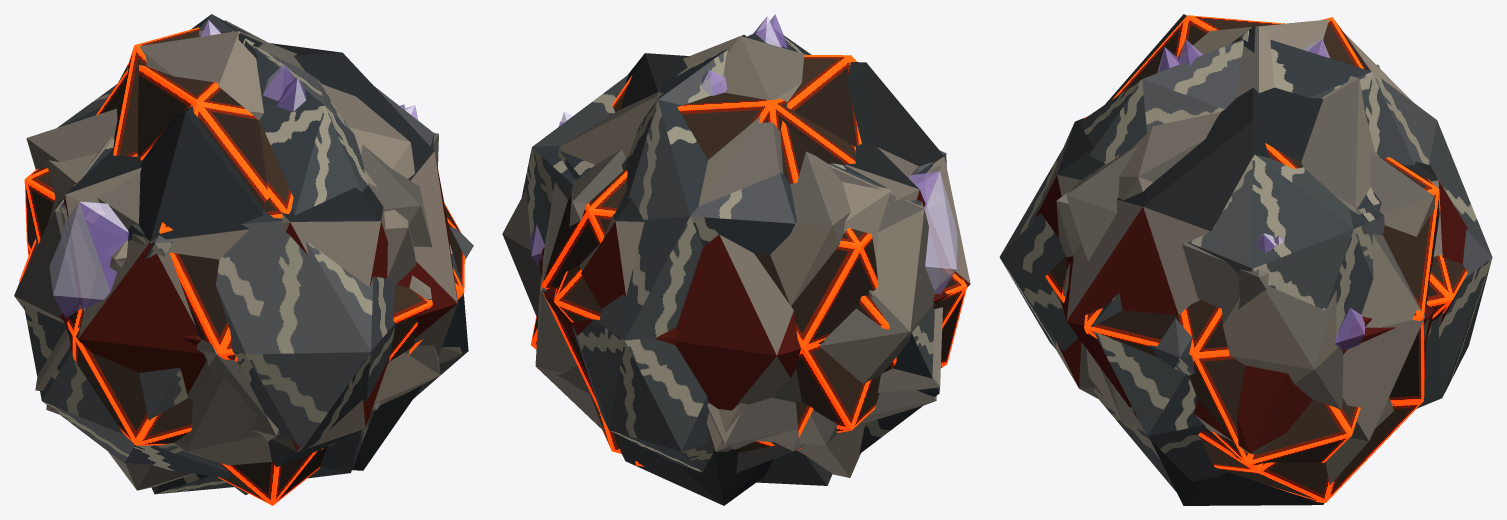
Rendered from rocks.glb.
3 renders of one model, left to right at view 1: azimuth 30°, elevation 25°; view 2: azimuth 150°, elevation 25°; view 3: azimuth 270°, elevation 25°, orthographic. The views are drawn at different scales.
Visible parts, largest first — view 1: iron_2, magnet_3, stone_2, iron_1, volatile_3, magnet_2, volatile_2, volatile_1, splitter_2, crystal_1, stone_3, stone_1 (+6 smaller); view 2: iron_2, magnet_3, stone_1, volatile_1, stone_3, volatile_3, stone_2, volatile_2, iron_1, splitter_2, splitter_3, magnet_2 (+4 smaller); view 3: iron_2, magnet_3, iron_1, stone_3, volatile_3, volatile_1, stone_1, stone_2, splitter_3, magnet_2, magnet_1, volatile_2 (+5 smaller).
Part boxes in pixels (x1,y1,x2,y2): iron_2: (57,14,395,494); magnet_3: (59,43,457,470); stone_2: (118,31,431,467); iron_1: (24,86,468,478); volatile_3: (19,65,323,450); magnet_2: (238,33,389,466); volatile_2: (113,27,432,505); volatile_1: (24,168,464,445); splitter_2: (26,59,440,441); crystal_1: (49,20,220,317); stone_3: (36,20,265,490); stone_1: (14,136,432,411); iron_2: (572,30,832,485); magnet_3: (538,53,970,505); stone_1: (502,164,939,402); volatile_1: (531,228,967,432); stone_3: (535,91,918,477); volatile_3: (541,55,896,453); stone_2: (683,36,806,472); volatile_2: (554,92,855,466); iron_1: (521,75,939,453); splitter_2: (558,151,850,451); splitter_3: (569,149,941,449); magnet_2: (569,35,747,344); iron_2: (999,39,1492,491); magnet_3: (1060,14,1434,505); iron_1: (1091,154,1384,481); stone_3: (1173,76,1424,485); volatile_3: (1112,15,1440,502); volatile_1: (1084,300,1360,466); stone_1: (1182,243,1343,409); stone_2: (1063,19,1412,296); splitter_3: (1066,144,1434,432); magnet_2: (1035,26,1467,398); magnet_1: (1194,152,1381,454); volatile_2: (1045,17,1467,320).
Bounding box in the file's own units: 1.91 × 2 × 1.93.
Materials: 6 (6 with a texture image).
